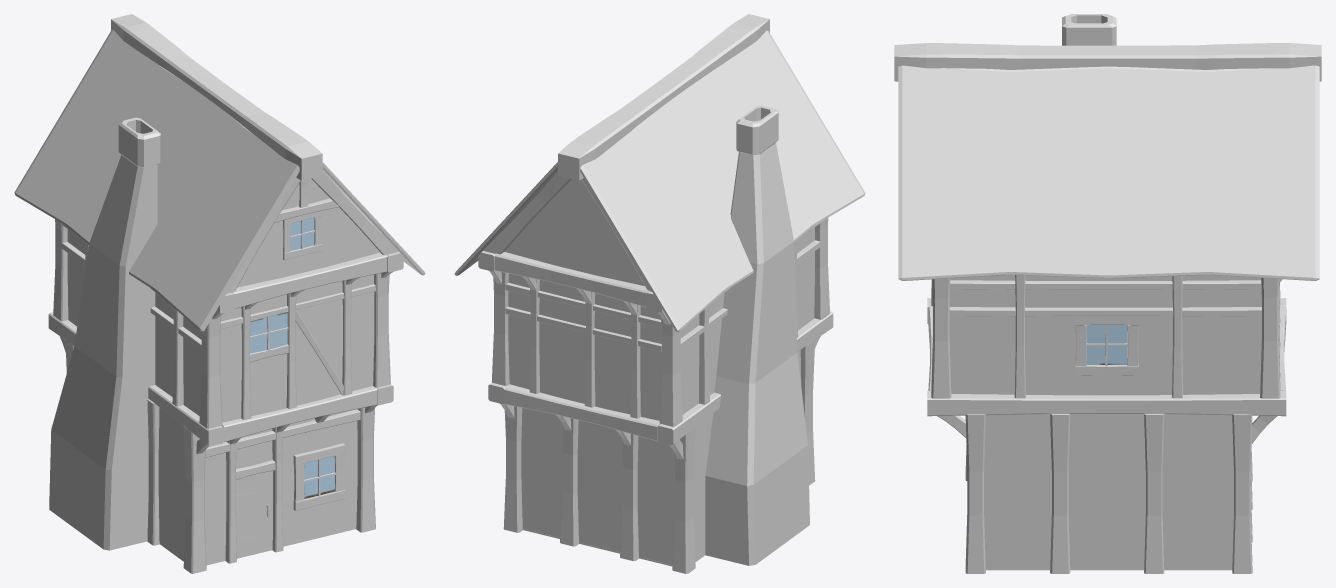
File: MedivalHouse_00.fbx
3 renders of one model, left to right at view 1: azimuth 30°, elevation 25°; view 2: azimuth 150°, elevation 25°; view 3: azimuth 270°, elevation 25°, orthographic. The views are drawn at different scales.
Parts seen in each view (by area): view 1: Wooden_Log_House_Small_2; view 2: Wooden_Log_House_Small_2; view 3: Wooden_Log_House_Small_2.
Part boxes in pixels (box(x1,y1,x2,y2)): Wooden_Log_House_Small_2: box(14, 14, 425, 573); Wooden_Log_House_Small_2: box(454, 14, 865, 573); Wooden_Log_House_Small_2: box(894, 14, 1321, 573).
Size of the model in its own units: 532 by 873 by 716.
